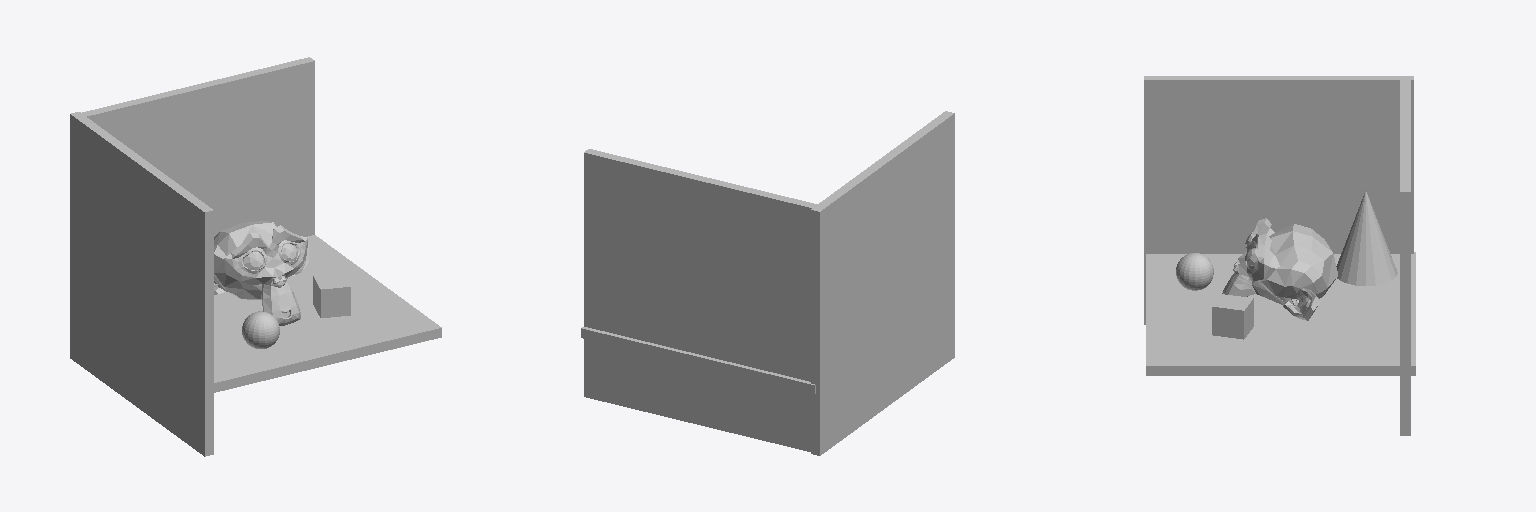
Rendered from myScene.obj.
3 views of the same model, side by side, from view 1: azimuth 30°, elevation 25°; view 2: azimuth 150°, elevation 25°; view 3: azimuth 270°, elevation 25° (orthographic).
Visible parts, largest first — view 1: pCube4, pCube3, pCube1, Mesh, pCube2, pSphere1; view 2: pCube3, pCube4, pCube1; view 3: pCube4, pCube1, Mesh, pCube3, pCone1, pCube2, pSphere1.
Boxes of the visible parts, <box> form: pCube4: <box>70,112,213,456</box>; pCube3: <box>78,57,314,236</box>; pCube1: <box>214,235,441,392</box>; Mesh: <box>214,221,308,325</box>; pCube2: <box>313,273,350,317</box>; pSphere1: <box>242,311,279,348</box>; pCube3: <box>584,149,821,451</box>; pCube4: <box>811,111,954,455</box>; pCube1: <box>581,327,815,394</box>; pCube4: <box>1144,76,1413,324</box>; pCube1: <box>1146,252,1415,375</box>; Mesh: <box>1222,218,1337,320</box>; pCube3: <box>1400,78,1410,435</box>; pCone1: <box>1336,191,1397,285</box>; pCube2: <box>1212,294,1253,339</box>; pSphere1: <box>1176,253,1213,290</box>.
Size of the model in its own units: 4.86 by 4.77 by 4.8.